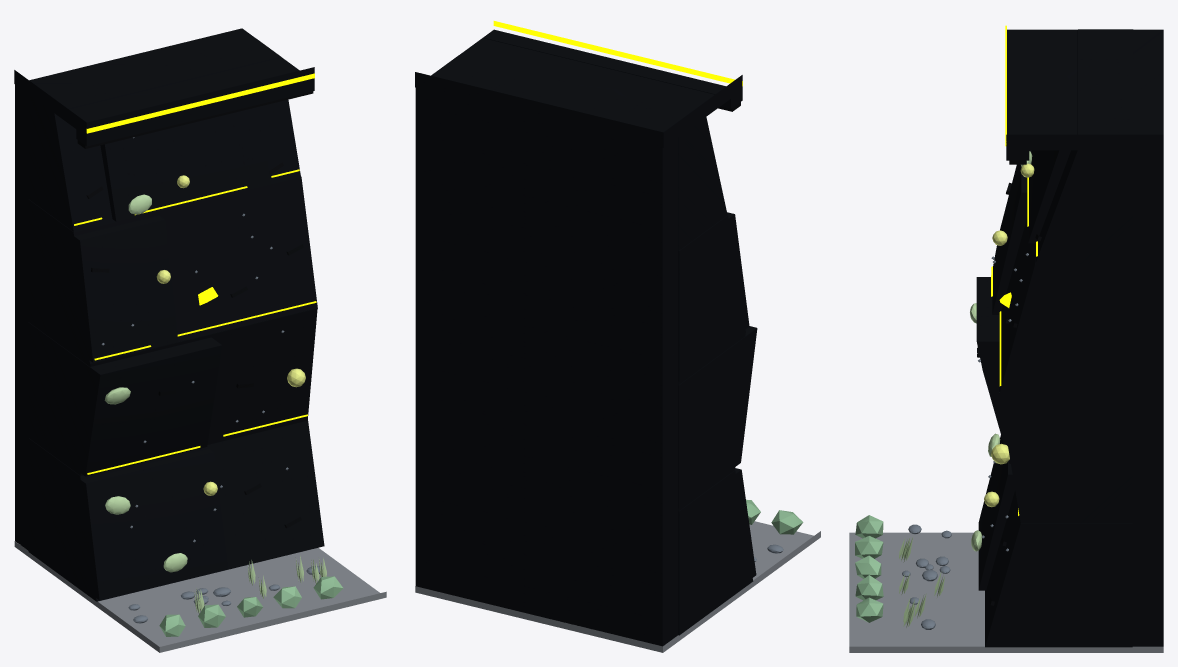
File: tt_plinth_skirt_half.glb
3 renders of one model, left to right at view 1: azimuth 30°, elevation 25°; view 2: azimuth 150°, elevation 25°; view 3: azimuth 270°, elevation 25°, orthographic. The views are drawn at different scales.
Parts seen in each view (by area): view 1: Course2_Facets, Course0_Facets, Course1_Facets, Course3_Facets, Base_Mat, Cap_Course, Skirt_Core, Moss_Edge, Sloper_Holds, Seam_Tape, Cap_Court_Line, Grass_Tufts (+4 smaller); view 2: Skirt_Core, Cap_Course, Course3_Facets, Course1_Facets, Course0_Facets, Course2_Facets, Base_Mat, Cap_Court_Line, Moss_Edge; view 3: Course0_Facets, Course2_Facets, Course1_Facets, Course3_Facets, Skirt_Core, Base_Mat, Cap_Course, Moss_Edge, River_Stones, Tennis_Ball_Holds, Grass_Tufts, Sloper_Holds.
Part boxes in pixels (left/top/right/bottom): Course2_Facets: left=28, top=176, right=317, bottom=363; Course0_Facets: left=28, top=420, right=324, bottom=601; Course1_Facets: left=28, top=308, right=317, bottom=476; Course3_Facets: left=28, top=38, right=300, bottom=231; Base_Mat: left=14, top=541, right=386, bottom=652; Cap_Course: left=14, top=28, right=314, bottom=146; Skirt_Core: left=15, top=84, right=28, bottom=550; Moss_Edge: left=159, top=576, right=343, bottom=636; Sloper_Holds: left=104, top=194, right=187, bottom=572; Seam_Tape: left=74, top=169, right=316, bottom=474; Cap_Court_Line: left=86, top=73, right=314, bottom=133; Grass_Tufts: left=194, top=556, right=326, bottom=613; Skirt_Core: left=415, top=87, right=678, bottom=646; Cap_Course: left=415, top=29, right=742, bottom=147; Course3_Facets: left=431, top=55, right=727, bottom=251; Course1_Facets: left=678, top=326, right=757, bottom=511; Course0_Facets: left=678, top=468, right=756, bottom=635; Course2_Facets: left=678, top=212, right=749, bottom=381; Base_Mat: left=415, top=521, right=820, bottom=652; Cap_Court_Line: left=493, top=21, right=742, bottom=85; Moss_Edge: left=746, top=499, right=803, bottom=534; Course0_Facets: left=978, top=435, right=1132, bottom=647; Course2_Facets: left=992, top=150, right=1132, bottom=394; Course1_Facets: left=976, top=277, right=1133, bottom=523; Course3_Facets: left=1028, top=29, right=1133, bottom=264; Skirt_Core: left=1132, top=150, right=1163, bottom=646; Base_Mat: left=849, top=532, right=1163, bottom=652; Cap_Course: left=1006, top=29, right=1163, bottom=160; Moss_Edge: left=855, top=515, right=883, bottom=622; River_Stones: left=902, top=524, right=951, bottom=629; Tennis_Ball_Holds: left=984, top=163, right=1034, bottom=507; Grass_Tufts: left=899, top=537, right=944, bottom=627; Sloper_Holds: left=970, top=151, right=1032, bottom=551.
Size of what is drawn, in the model's own units: 2 by 4 by 2.2.
8 materials, 3 textured.
